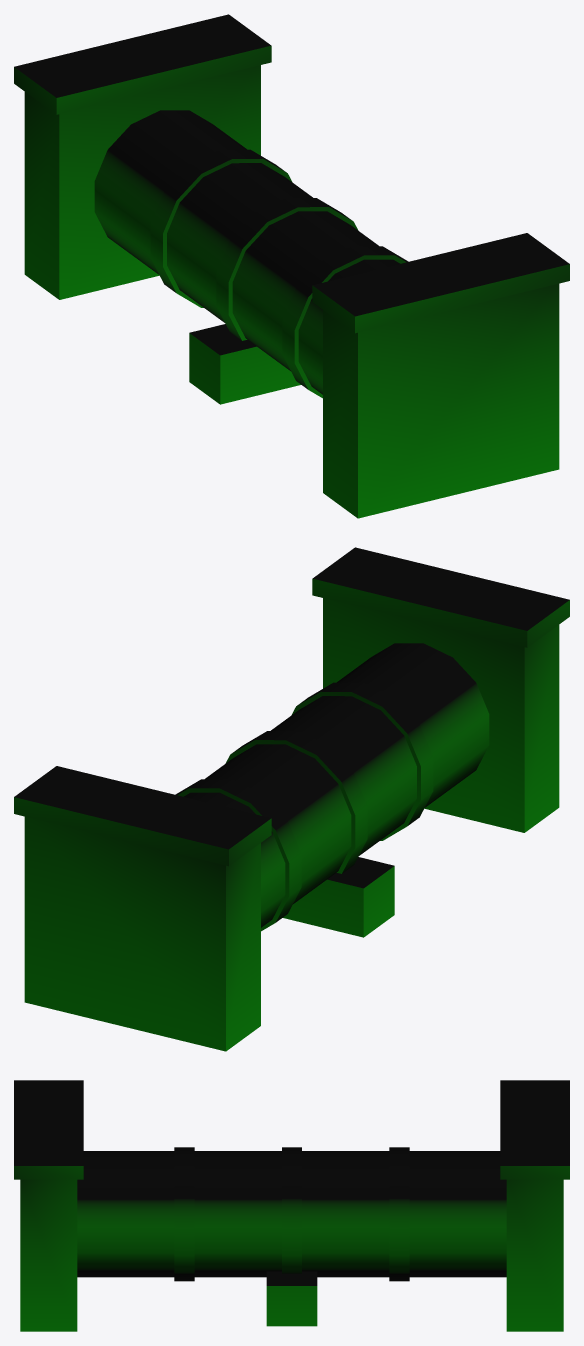
The model's file is straightpipe1.glb.
The picture shows the model from 3 angles, top to bottom: view 1: azimuth 30°, elevation 25°; view 2: azimuth 150°, elevation 25°; view 3: azimuth 270°, elevation 25°; orthographic projection. The views are drawn at different scales.
Parts seen in each view (by area): view 1: lod0; view 2: lod0; view 3: lod0.
Part boxes in pixels (box(x1,y1,x2,y2)): lod0: box(14, 14, 569, 518); lod0: box(14, 547, 569, 1051); lod0: box(14, 1080, 569, 1331).
Size of what is drawn, in the model's own units: 3.2 by 2.94 by 8.8.
